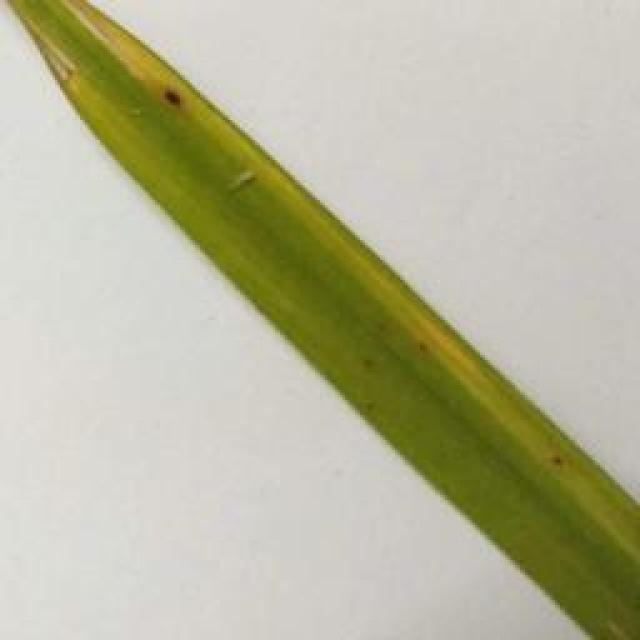Bacterial_Blight: (13, 6, 87, 87)
Brown_Spot: (534, 438, 578, 478), (156, 82, 200, 118)
